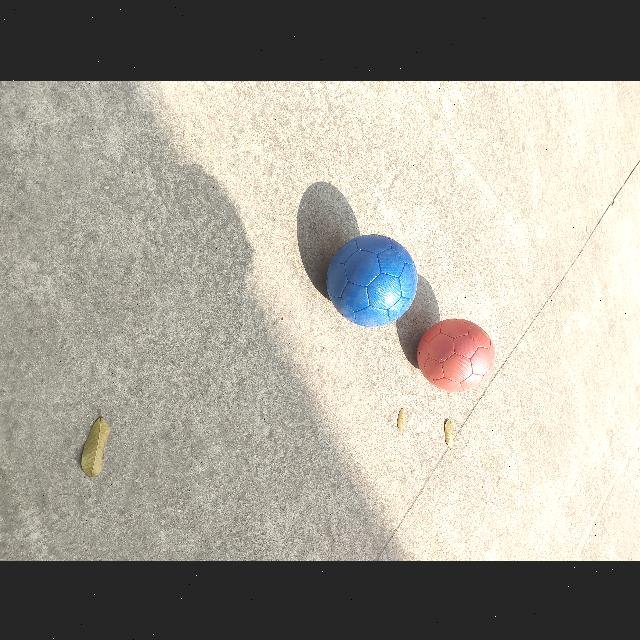B: (323, 232, 421, 327)
R: (412, 317, 496, 392)
